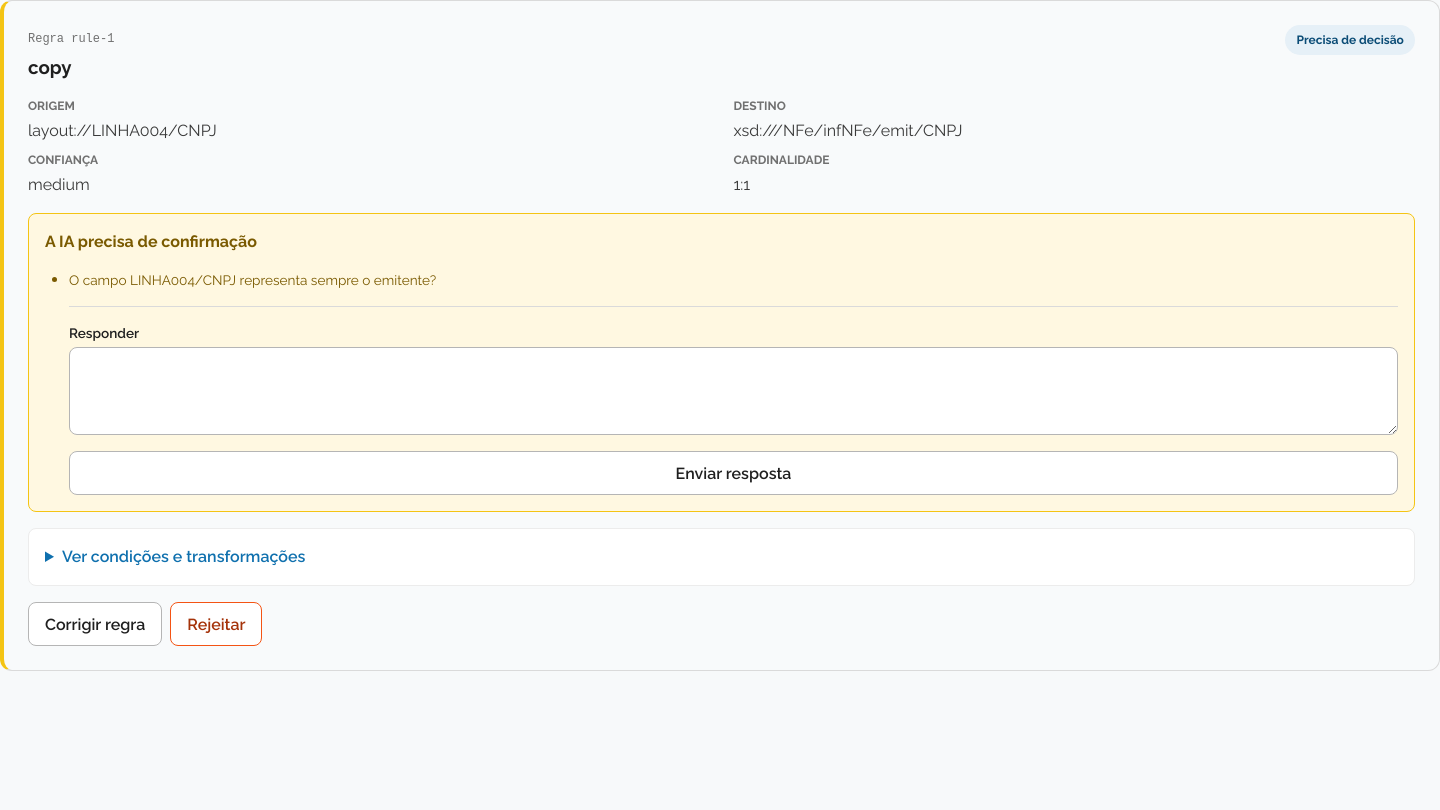
Scenario: MappingRuleReviewCard — perguntas abertas (gap a2) › carrega o histórico e envia uma nova resposta pelo PUT dedicado
Step 1. Type "Sim, sempre o emitente para NF-e modelo 55." into the text box labelled "Responder" → (734,392), box [69,348,1398,436]
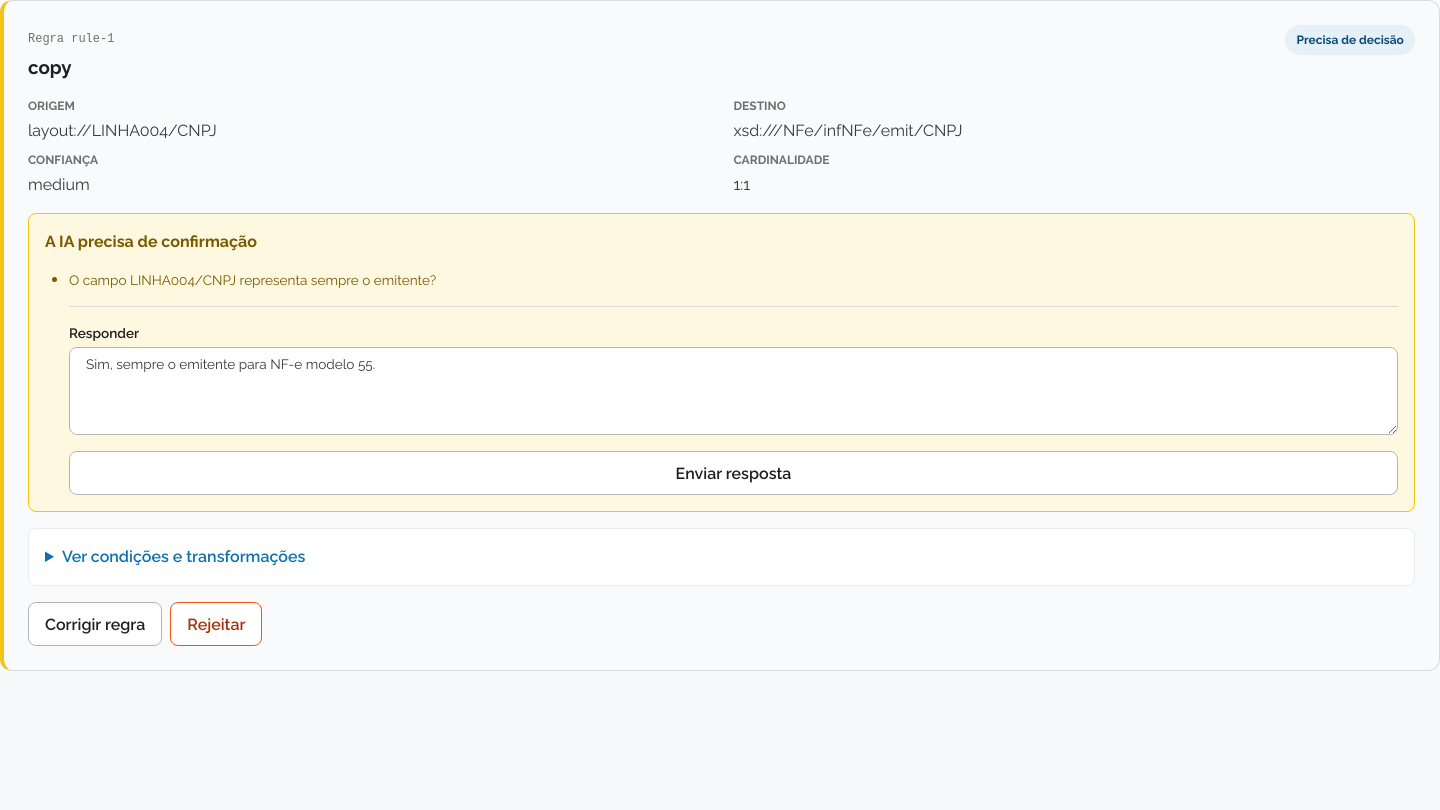
Step 2. Click the button "Enviar resposta" → (734,474), box [69,452,1398,496]
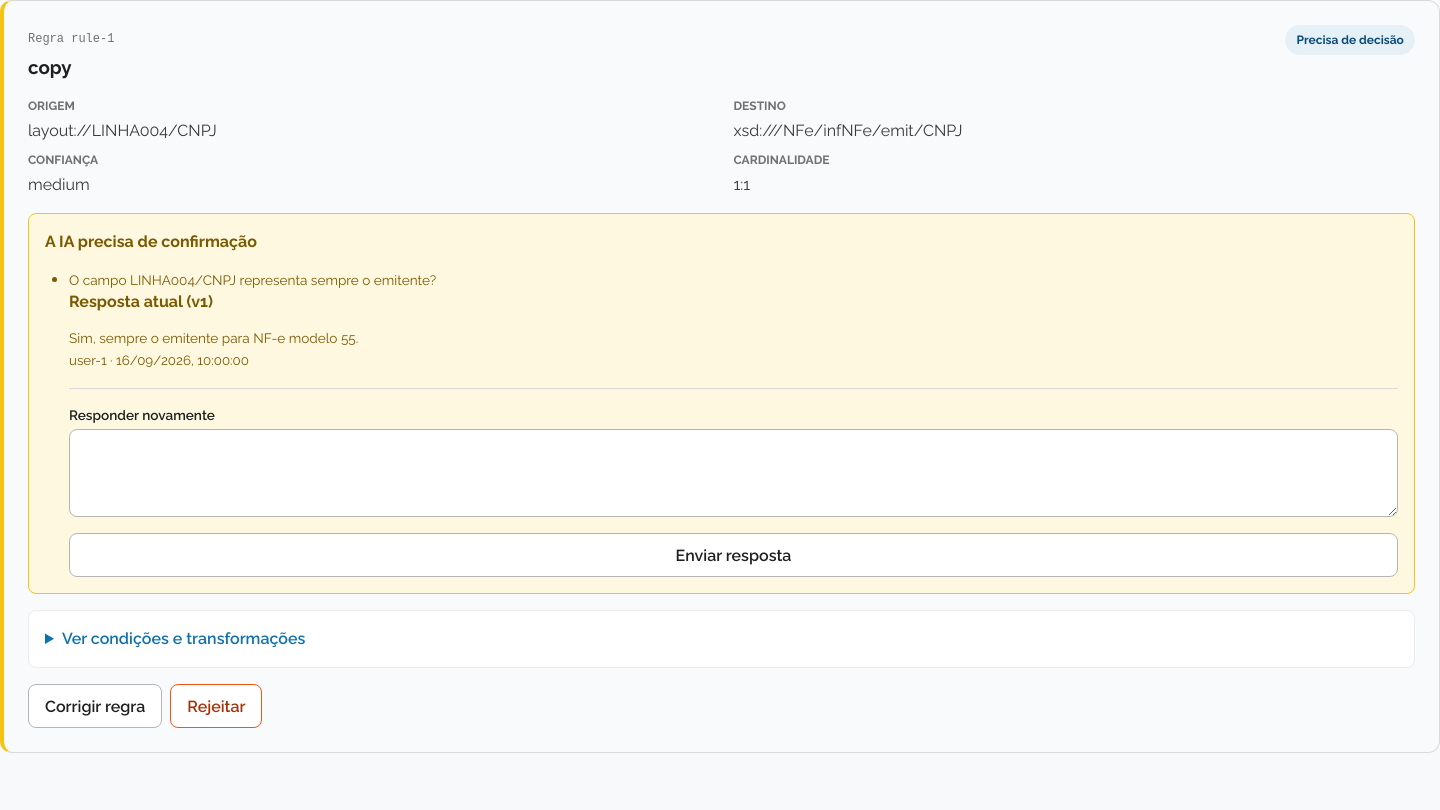
Expected: the text "Resposta atual (v1)" is shown, [69,292,213,311]
Expected: the text "Sim, sempre o emitente para NF-e modelo 55." is shown, [69,330,358,346]
